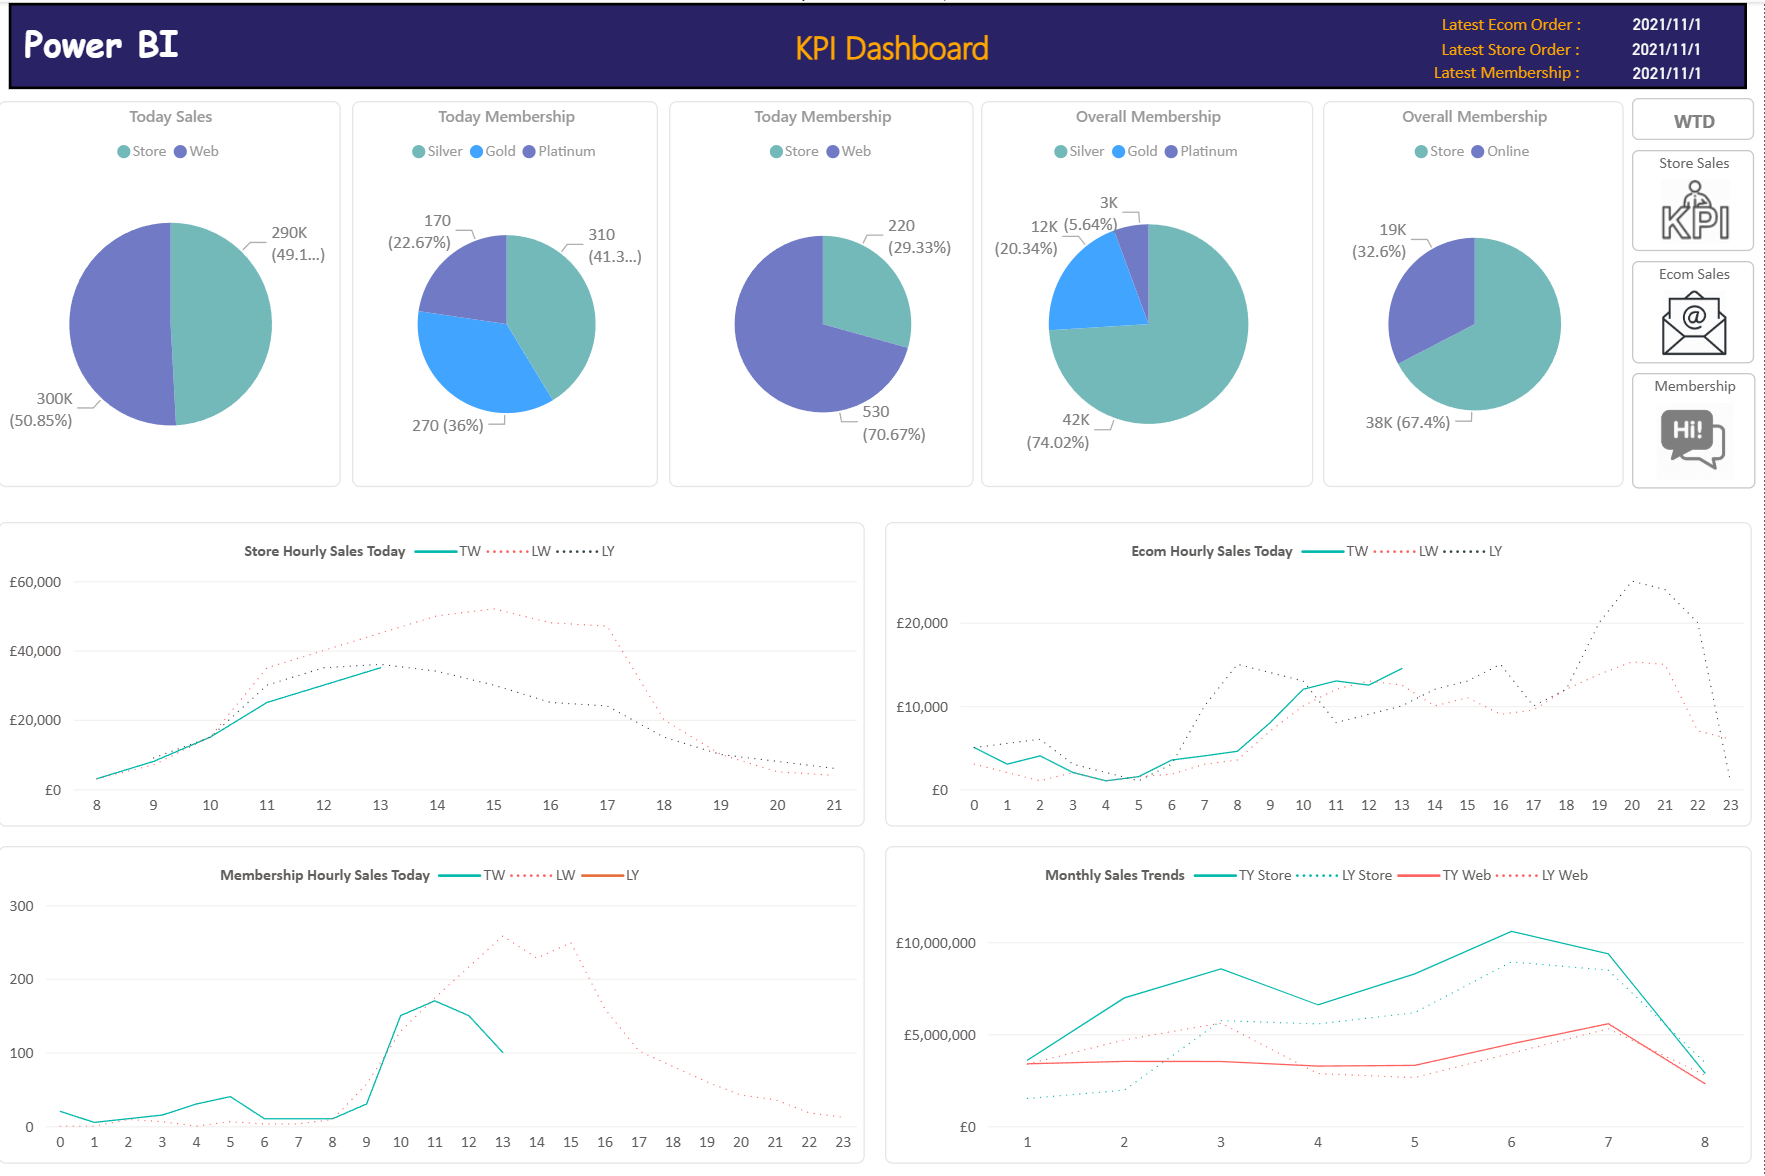

Layout of this report page (visuals, bound fields, positions):
{"tool":"powerbi","page":{"name":"Dashboard","canvas":[1350,900],"ordinal":0},"visuals":[{"type":"basicShape","box":[0,0,1350.5,67],"z":0},{"type":"pieChart","title":"Today Sales","fields":{"Y":["Daily_Sales.StoreToday","Daily_Sales.WebToday"]},"box":[5.5,75.6,260.9,293.8],"z":1000},{"type":"lineChart","title":"Today Hourly Sales Trends","fields":{"Category":["Hourly_Sales.Hour"],"Y":["Hourly_Sales.HourlyStoreTW","Hourly_Sales.HourlyStoreLW","Hourly_Sales.HourlyStoreLY"]},"box":[5.5,395.7,659.9,232.4],"z":2000},{"type":"lineChart","title":"Today Hourly Sales Trends","fields":{"Y":["YTD_Sales.YTDTYStore","YTD_Sales.YTDLYStore","YTD_Sales.YTDTYWeb","YTD_Sales.YTDLYWeb"],"Category":["YTD_Sales.CalPeriod"]},"box":[680.8,642.4,659.9,242.3],"z":3000},{"type":"lineChart","title":"Today Hourly Sales Trends","fields":{"Category":["Hourly_Sales.Hour"],"Y":["Hourly_Sales.HourlyEcomTW","Hourly_Sales.HourlyEcomLW","Hourly_Sales.HourlyEcomLY"]},"box":[680.8,395.7,659.9,232.4],"z":4000},{"type":"image","title":"Membership","box":[1249.7,282.2,94,88],"z":5000},{"type":"image","title":"Store Sales","box":[1249.7,112.9,93.2,76.7],"z":6000},{"type":"image","title":"Ecom Sales","box":[1249.7,197.2,93.2,77.8],"z":7000},{"type":"pieChart","title":"Today Membership","fields":{"Y":["Daily_MS.MSTFS","Daily_MS.MSPlus","Daily_MS.MSFamily"]},"box":[275.2,75.6,233.5,293.8],"z":8000},{"type":"pieChart","title":"Today Membership","fields":{"Y":["Daily_MS.MSStore","Daily_MS.MSWeb"]},"box":[516.3,75.6,232.4,293.8],"z":9000},{"type":"lineChart","title":"Today Hourly Sales Trends","fields":{"Category":["MS_WTD.MS_Hour"],"Y":["MS_WTD.MSTodayTW","MS_WTD.MSTodayLW","MS_WTD.MSTodayLY"]},"box":[5.5,642.4,659.9,242.3],"z":10000},{"type":"pieChart","title":"Overall Membership","fields":{"Y":["MS_Overall.MSOverall"],"Category":["MS_Overall.MS_Channel"]},"box":[1014,75.6,229.1,293.8],"z":11000},{"type":"pieChart","title":"Overall Membership","fields":{"Y":["MS_Overall.MSOverall"],"Category":["MS_Overall.MS_Type"]},"box":[754,75.6,253.2,293.8],"z":12000},{"type":"actionButton","box":[1249.7,73,93.2,32],"z":13000},{"type":"card","fields":{"Values":["Min(Latest Order.Latest_Ecom)"]},"box":[1208,5.5,135.9,27.4],"z":14000},{"type":"card","fields":{"Values":["Min(Latest Order.Latest_Flash)"]},"box":[1208,24.1,134.8,27.4],"z":15000},{"type":"card","fields":{"Values":["Min(Latest Order.Latest_MS)"]},"box":[1208,42.8,135.9,27.4],"z":16000},{"type":"textbox","box":[1080.2,2,135.2,28.6],"z":17000},{"type":"textbox","box":[1079.8,21,134.8,28.5],"z":18000},{"type":"textbox","box":[1080,39,134.8,28.5],"z":19000},{"type":"textbox","box":[567.8,12.1,236.8,44.9],"z":20000},{"type":"textbox","box":[20.9,7.7,165.9,51.6],"z":21001}]}

Visuals, with their boxes in screenshot pixels (x1, y1, x2, y2), scaled from the page's 1350x900 canvas onto the 1765x1176 screenshot:
basicShape: l=0, t=0, r=1764, b=88
"Today Sales" pieChart: l=7, t=99, r=348, b=483
"Today Hourly Sales Trends" lineChart: l=7, t=517, r=870, b=821
"Today Hourly Sales Trends" lineChart: l=890, t=839, r=1753, b=1156
"Today Hourly Sales Trends" lineChart: l=890, t=517, r=1753, b=821
"Membership" image: l=1634, t=369, r=1757, b=484
"Store Sales" image: l=1634, t=148, r=1756, b=248
"Ecom Sales" image: l=1634, t=258, r=1756, b=359
"Today Membership" pieChart: l=360, t=99, r=665, b=483
"Today Membership" pieChart: l=675, t=99, r=979, b=483
"Today Hourly Sales Trends" lineChart: l=7, t=839, r=870, b=1156
"Overall Membership" pieChart: l=1326, t=99, r=1625, b=483
"Overall Membership" pieChart: l=986, t=99, r=1317, b=483
actionButton: l=1634, t=95, r=1756, b=137
card - Min(Latest Order.Latest_Ecom): l=1579, t=7, r=1757, b=43
card - Min(Latest Order.Latest_Flash): l=1579, t=31, r=1756, b=67
card - Min(Latest Order.Latest_MS): l=1579, t=56, r=1757, b=92
textbox: l=1412, t=3, r=1589, b=40
textbox: l=1412, t=27, r=1588, b=65
textbox: l=1412, t=51, r=1588, b=88
textbox: l=742, t=16, r=1052, b=74
textbox: l=27, t=10, r=244, b=77
